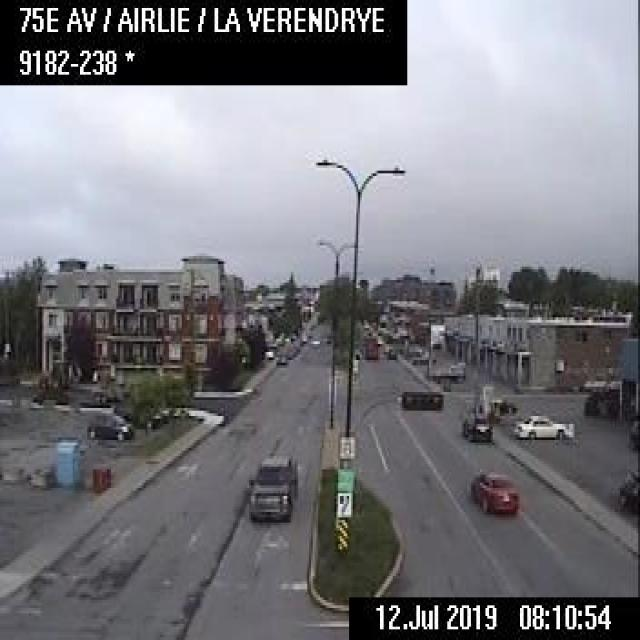construction: (90, 465, 97, 490), (100, 466, 106, 488), (96, 468, 100, 490)
vehicle: (247, 453, 298, 523), (467, 466, 520, 514), (510, 408, 568, 439), (83, 409, 133, 442), (460, 408, 493, 443), (618, 465, 638, 506), (428, 364, 463, 383), (362, 336, 380, 360), (274, 352, 288, 365), (384, 344, 396, 359)
